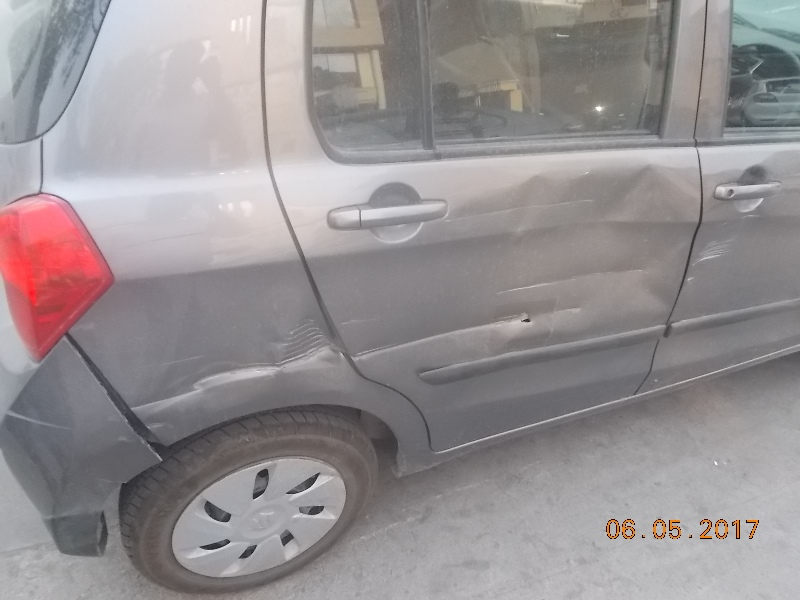Dent: (528, 162, 675, 277), (363, 309, 569, 337), (154, 358, 259, 390), (269, 314, 320, 377)
